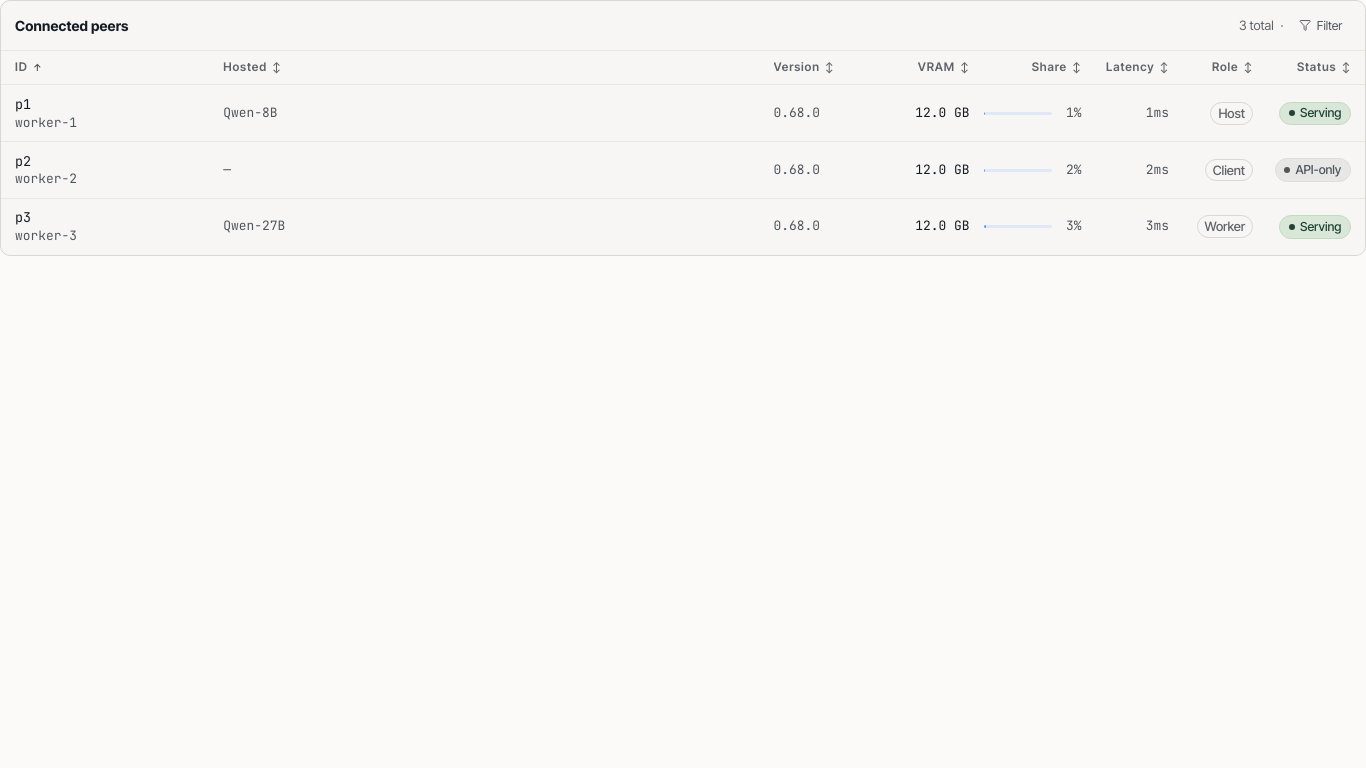
Test: PeersTable › filters peers by deselected column values and updates the table total
Click the button with aria-label "Filter peers" at (1321, 26), box [1290,12,1351,40]
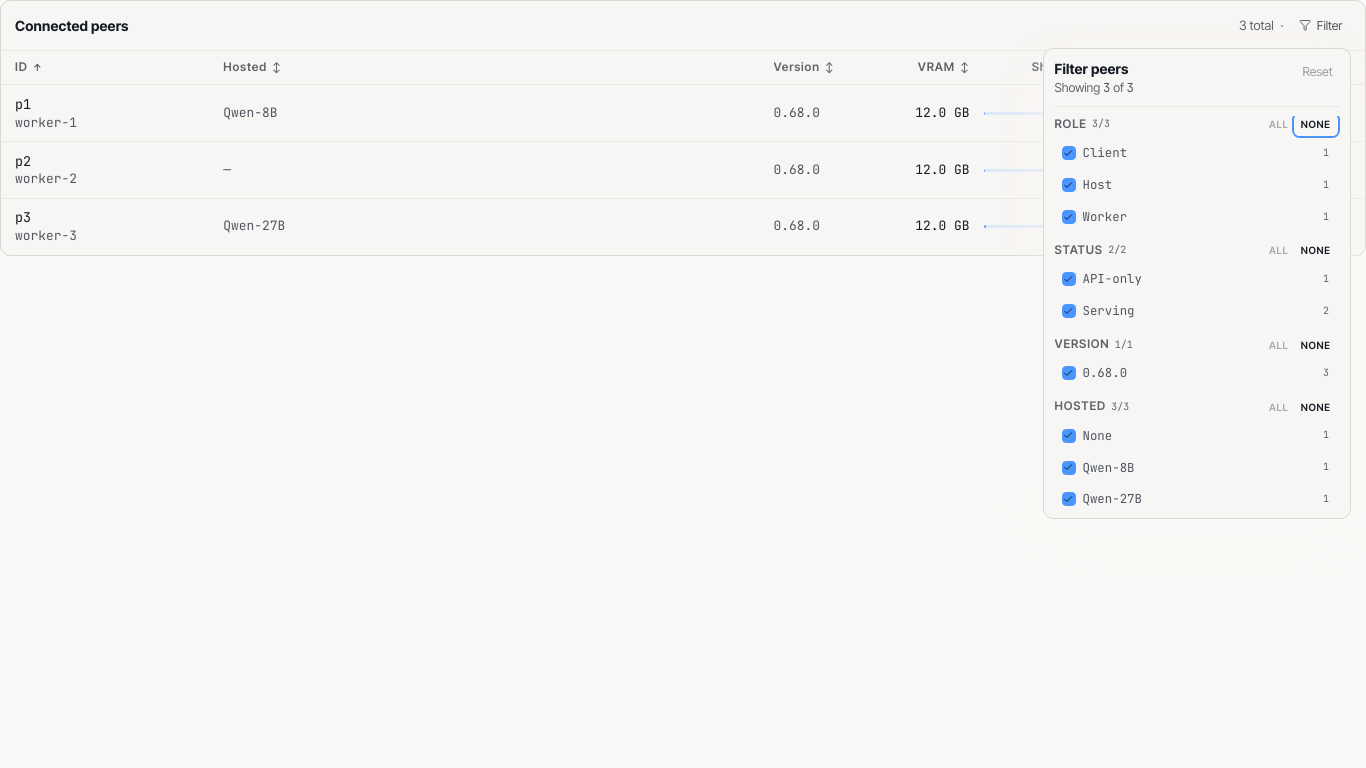
Click the checkbox named "Client, 1 peers" at (1105, 153), box [1062,144,1329,161]
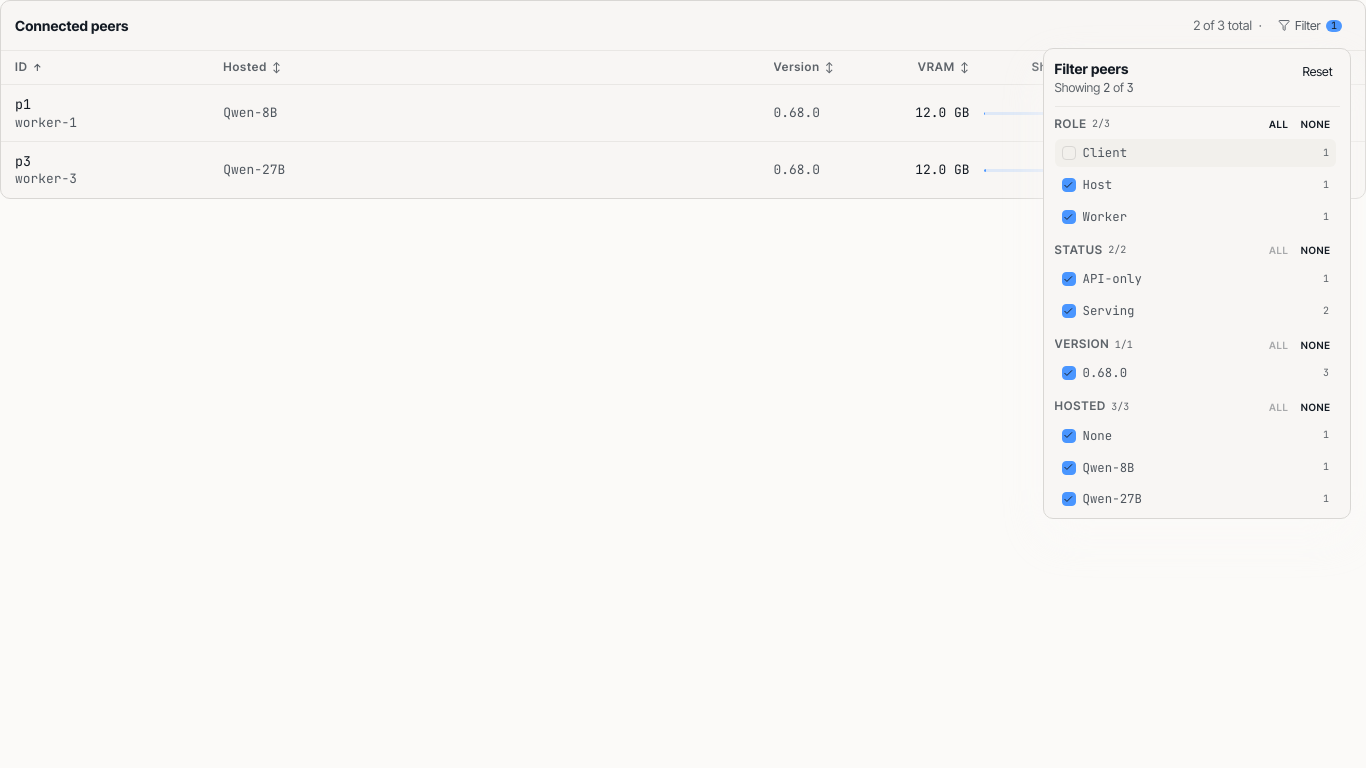
Expected: the button named "View worker-1 node, peer ID peer-1" is shown, [1,86,1365,142]
Expected: the text "2 of 3 total" is shown, [1193,16,1252,35]
Expected: the button with aria-label "Filter peers, 1 active" is shown, [1269,12,1351,40]
Click the button "Reset" at (1318, 72), box [1296,60,1340,84]
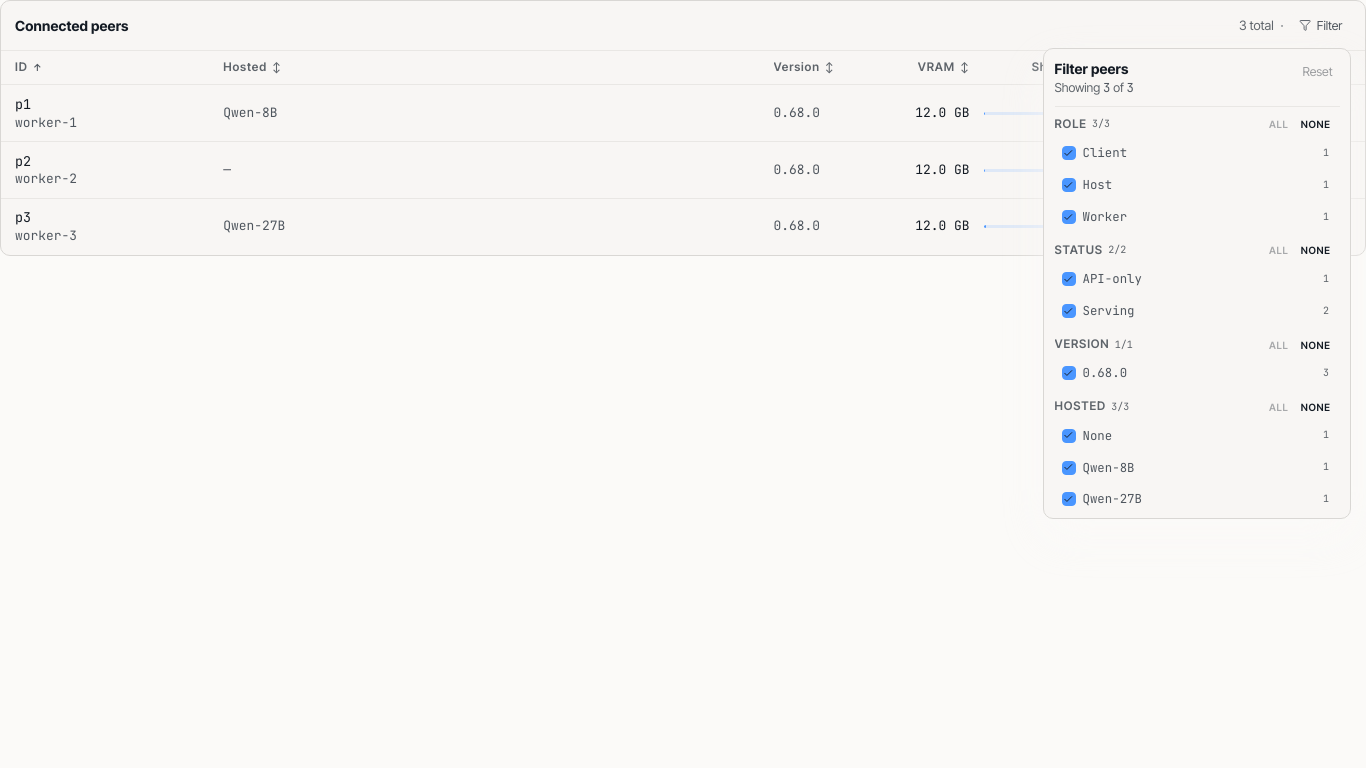
Expected: the text "3 total" is shown, [1239,16,1274,35]
Expected: the button named "View worker-2 node, peer ID peer-2" is shown, [1,142,1365,199]
